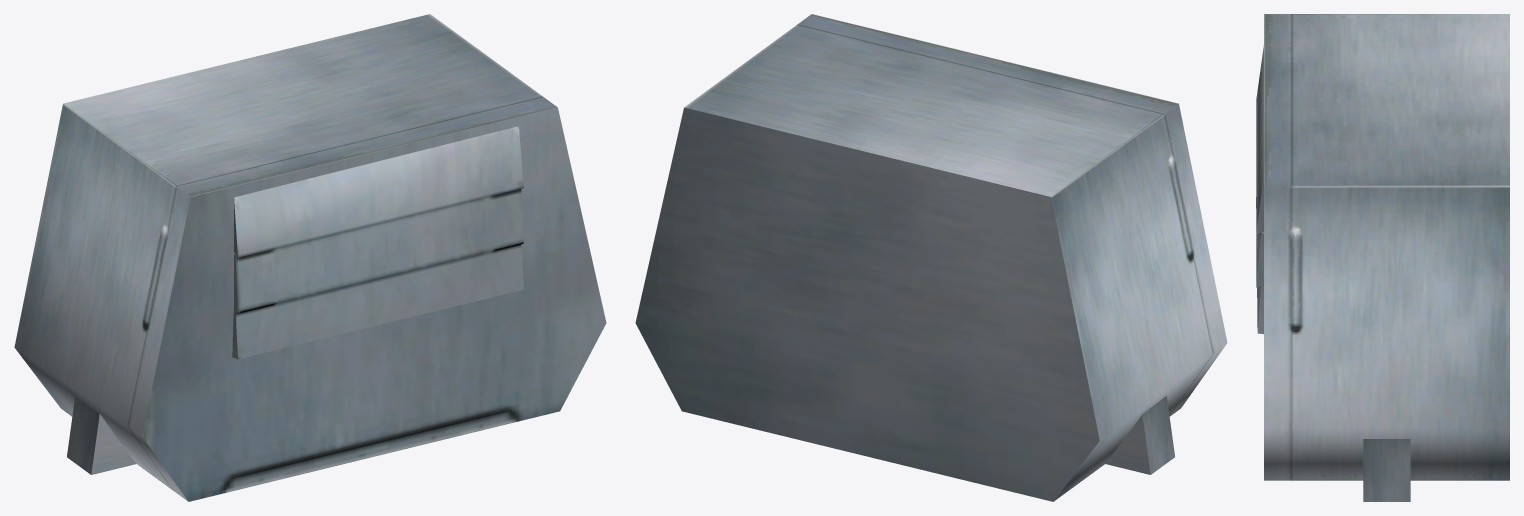
File: frn_all_tech_cabinet_s01_l1.fbx
3 renders of one model, left to right at view 1: azimuth 30°, elevation 25°; view 2: azimuth 150°, elevation 25°; view 3: azimuth 270°, elevation 25°, orthographic. The views are drawn at different scales.
Visible parts, largest first — view 1: mesh_node; view 2: mesh_node; view 3: mesh_node.
Part boxes in pixels (box(x1,y1,x2,y2)): mesh_node: box(14, 14, 606, 501); mesh_node: box(635, 14, 1227, 501); mesh_node: box(1256, 14, 1509, 501).
Bounding box in the file's own units: 1.2 × 0.7507 × 0.5892.
